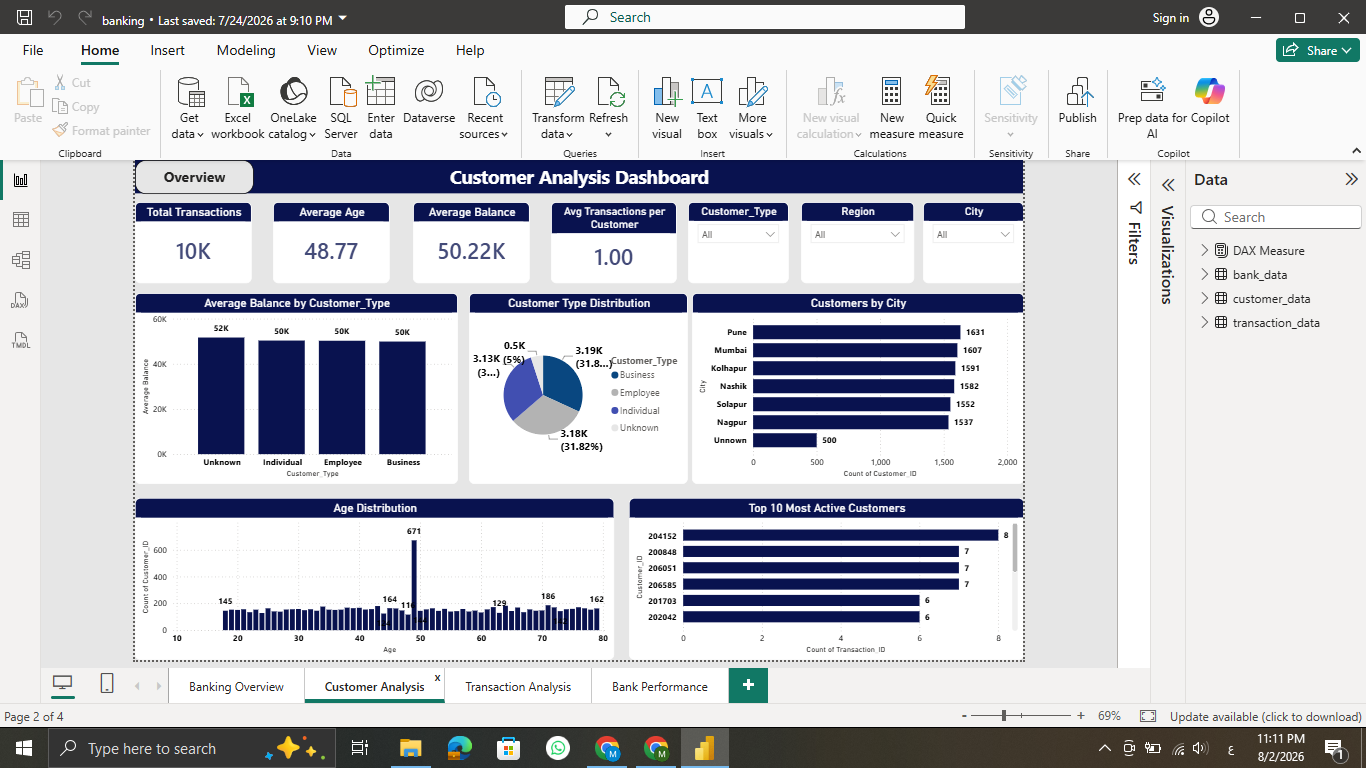

This screenshot's page, from the dashboard's own definition file:
{"tool":"powerbi","page":{"name":"Customer Analysis","canvas":[1280,720],"ordinal":1},"visuals":[{"type":"textbox","box":[0,0,1280.2,47.5],"z":0},{"type":"cardVisual","title":"Total Transactions","fields":{"Data":["DAX Measure.Total Customers"]},"box":[0,60.5,168.5,116.6],"z":1},{"type":"cardVisual","title":"Average Age","fields":{"Data":["DAX Measure.Average Age"]},"box":[198.7,60.5,168.5,116.6],"z":2},{"type":"cardVisual","title":"Average Balance","fields":{"Data":["DAX Measure.Average Balance"]},"box":[400.3,60.5,168.5,116.6],"z":3},{"type":"cardVisual","title":"Avg Transactions per Customer","fields":{"Data":["DAX Measure.Avg Transactions per Customer"]},"box":[599,60.5,181.4,116.6],"z":4},{"type":"pieChart","title":"Customer Type Distribution","fields":{"Category":["customer_data.Customer_Type"],"Y":["CountNonNull(customer_data.Customer_ID)"]},"box":[481,191.5,315.4,275],"z":5},{"type":"clusteredBarChart","title":"Customers by City","fields":{"Category":["customer_data.City"],"Y":["CountNonNull(customer_data.Customer_ID)"]},"box":[802.1,191.5,478.1,275],"z":6},{"type":"columnChart","title":"Age Distribution","fields":{"Y":["CountNonNull(customer_data.Customer_ID)"],"Category":["customer_data.Age"]},"box":[0,486.7,689.8,233.3],"z":7},{"type":"clusteredBarChart","title":"Top 10 Most Active Customers","fields":{"Category":["transaction_data.Customer_ID"],"Y":["CountNonNull(transaction_data.Transaction_ID)"]},"box":[711.4,486.7,568.8,233.3],"z":8},{"type":"clusteredColumnChart","fields":{"Category":["customer_data.Customer_Type"],"Y":["DAX Measure.Average Balance"]},"box":[0,191.5,465.1,275],"z":9},{"type":"slicer","title":"City","fields":{"Values":["customer_data.City"]},"box":[1134.7,60.5,145.4,116.6],"z":10},{"type":"slicer","title":"Region","fields":{"Values":["customer_data.Region"]},"box":[959,60.5,162.7,116.6],"z":11},{"type":"slicer","title":"Customer_Type","fields":{"Values":["customer_data.Customer_Type"]},"box":[796.3,60.5,145.4,116.6],"z":12},{"type":"actionButton","box":[0,0,171.4,49],"z":13}]}

Visuals, with their boxes on the page's 1280x720 design canvas (x1, y1, x2, y2). These are canvas units, not pixel positions in the 1366x768 screenshot, which may show the page scaled, cropped or inside an application window:
textbox: box(0, 0, 1280, 48)
"Total Transactions" cardVisual: box(0, 60, 168, 177)
"Average Age" cardVisual: box(199, 60, 367, 177)
"Average Balance" cardVisual: box(400, 60, 569, 177)
"Avg Transactions per Customer" cardVisual: box(599, 60, 780, 177)
"Customer Type Distribution" pieChart: box(481, 192, 796, 466)
"Customers by City" clusteredBarChart: box(802, 192, 1280, 466)
"Age Distribution" columnChart: box(0, 487, 690, 720)
"Top 10 Most Active Customers" clusteredBarChart: box(711, 487, 1280, 720)
clusteredColumnChart - customer_data.Customer_Type x DAX Measure.Average Balance: box(0, 192, 465, 466)
"City" slicer: box(1135, 60, 1280, 177)
"Region" slicer: box(959, 60, 1122, 177)
"Customer_Type" slicer: box(796, 60, 942, 177)
actionButton: box(0, 0, 171, 49)
